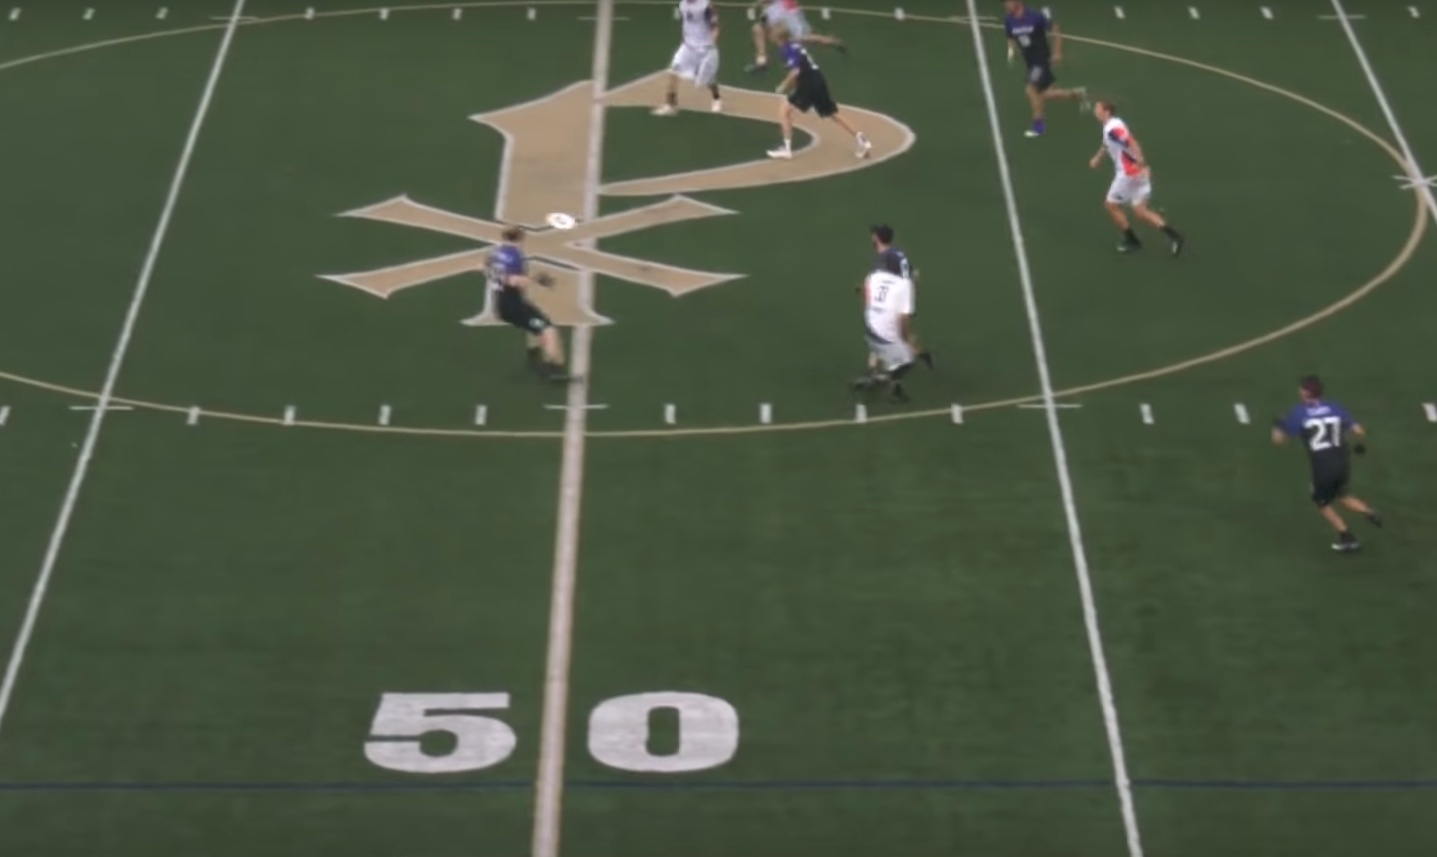frisbee: (546, 211, 574, 230)
